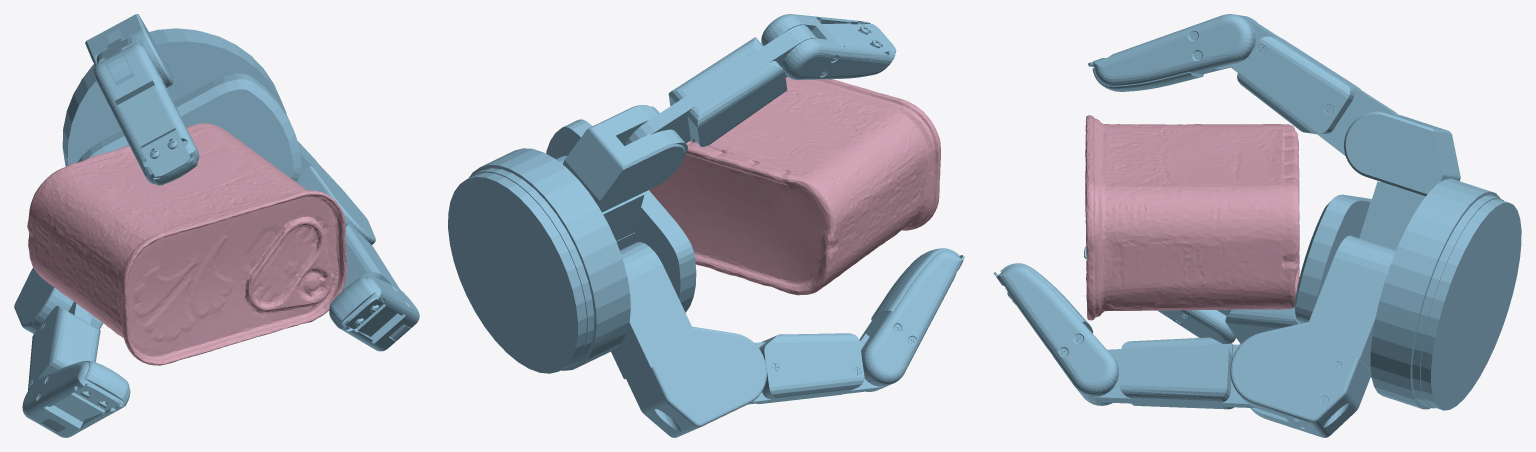
The picture shows the model from 3 angles, left to right: view 1: azimuth 30°, elevation 25°; view 2: azimuth 150°, elevation 25°; view 3: azimuth 270°, elevation 25°; orthographic projection. The views are drawn at different scales.
Visible parts, largest first — view 1: potted_meat_can.stl, world; view 2: world, potted_meat_can.stl; view 3: world, potted_meat_can.stl.
Boxes of the visible parts, x1,y1,x2,y2 form: potted_meat_can.stl: (27, 123, 347, 365); world: (14, 14, 419, 437); world: (448, 14, 964, 437); potted_meat_can.stl: (649, 77, 940, 295); world: (993, 14, 1521, 437); potted_meat_can.stl: (1085, 115, 1299, 320).
Size of the model in its own units: 0.1767 by 0.1587 by 0.2057.
